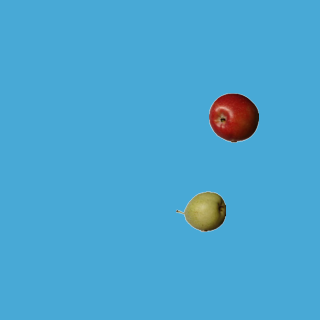Apple Braeburn: (208, 92, 258, 142)
Pear: (175, 186, 225, 236)
